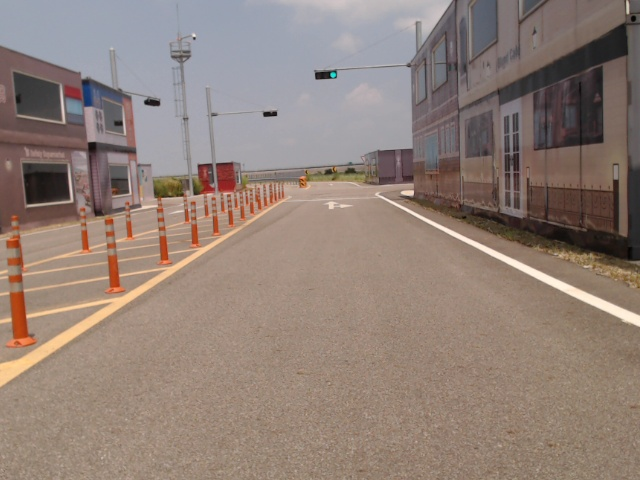green_3: (314, 70, 337, 80)
